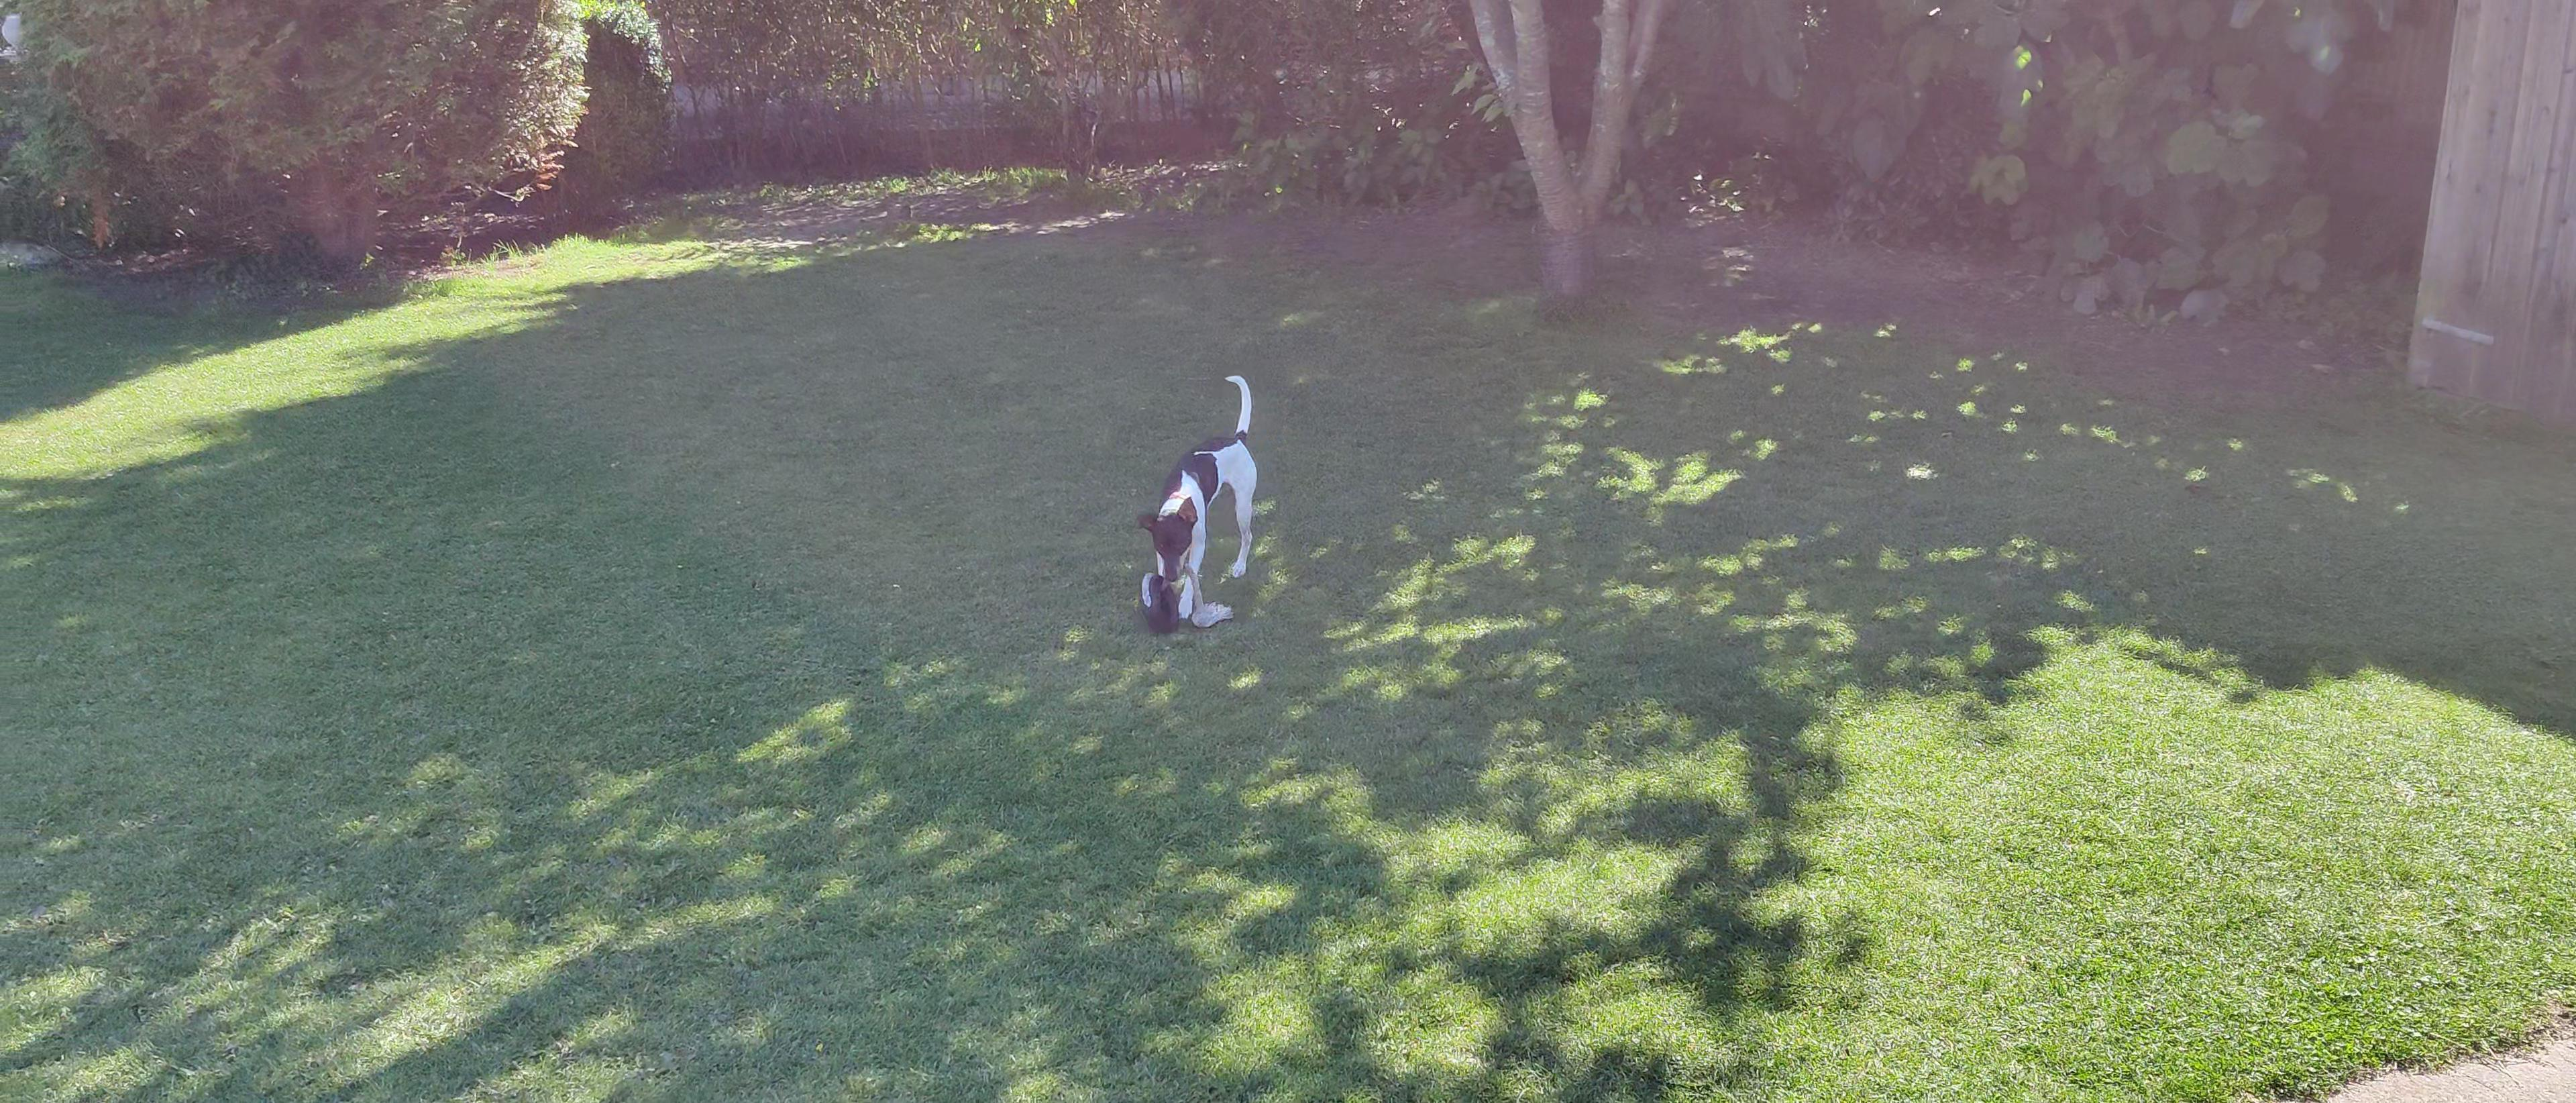Dog: (1127, 367, 1273, 633)
